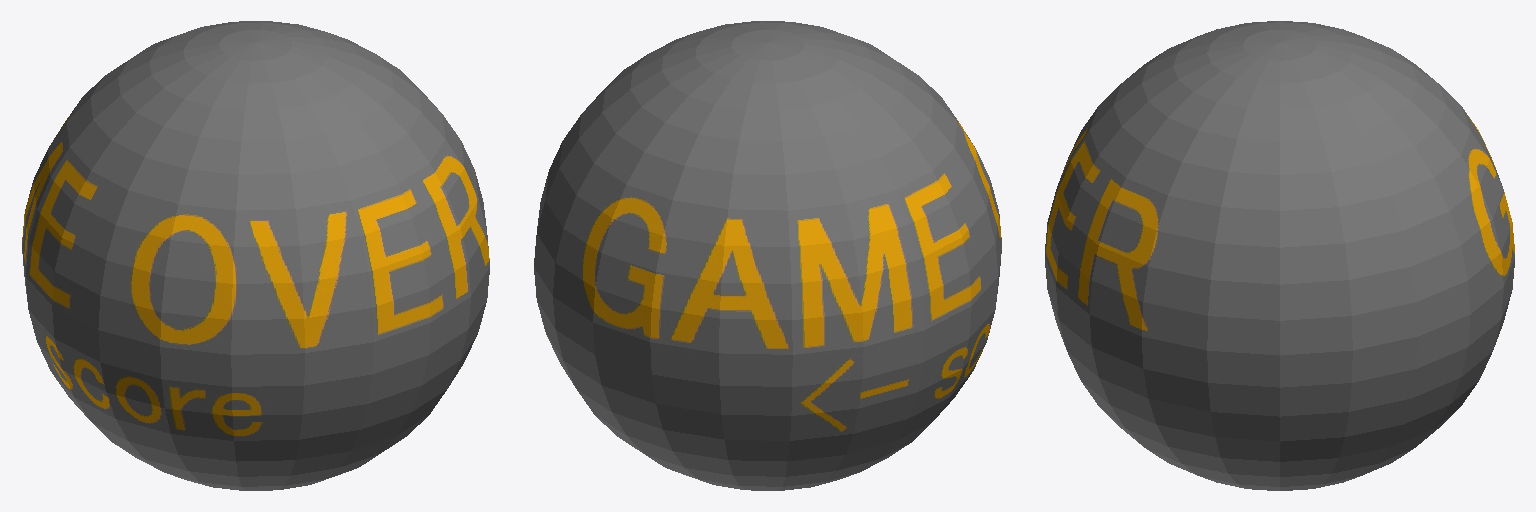
3 views of the same model, side by side, from view 1: azimuth 30°, elevation 25°; view 2: azimuth 150°, elevation 25°; view 3: azimuth 270°, elevation 25° (orthographic).
Visible parts, largest first — view 1: pSphere1; view 2: pSphere1; view 3: pSphere1.
Boxes of the visible parts, <box> form: pSphere1: <box>22,21,489,490</box>; pSphere1: <box>534,21,1001,490</box>; pSphere1: <box>1045,21,1514,490</box>.
Bounding box in the file's own units: 0.6 × 0.6 × 0.6.
Materials: 1 (1 with a texture image).